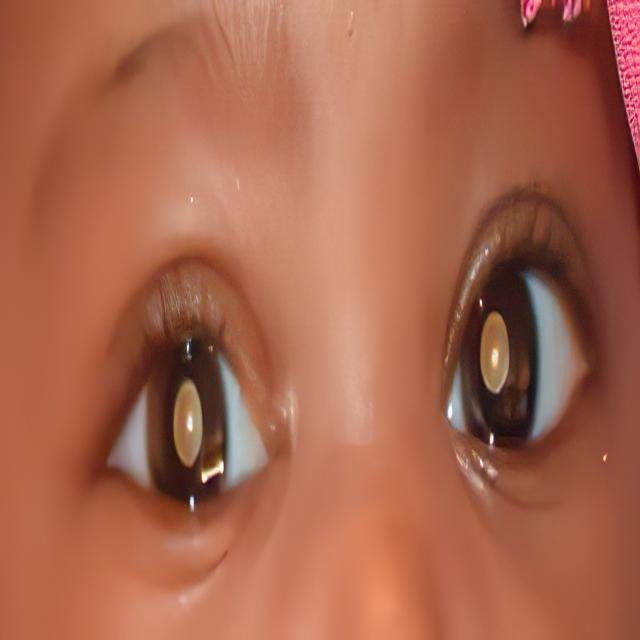reflexo-alterado: (95, 269, 280, 577), (423, 218, 610, 476)
